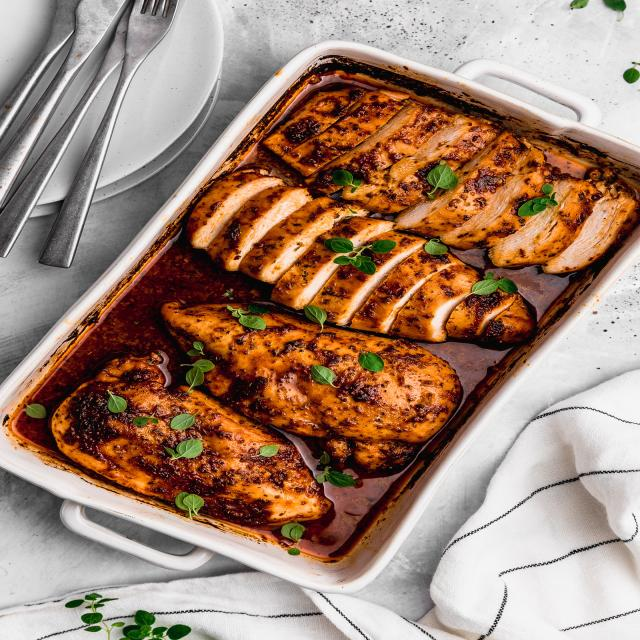carne de cerdo: (256, 73, 640, 287)
